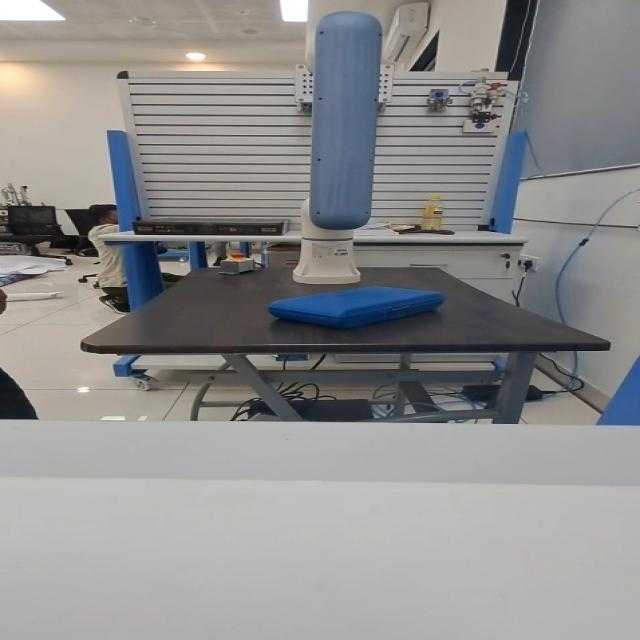top-surface: (303, 292, 417, 306)
